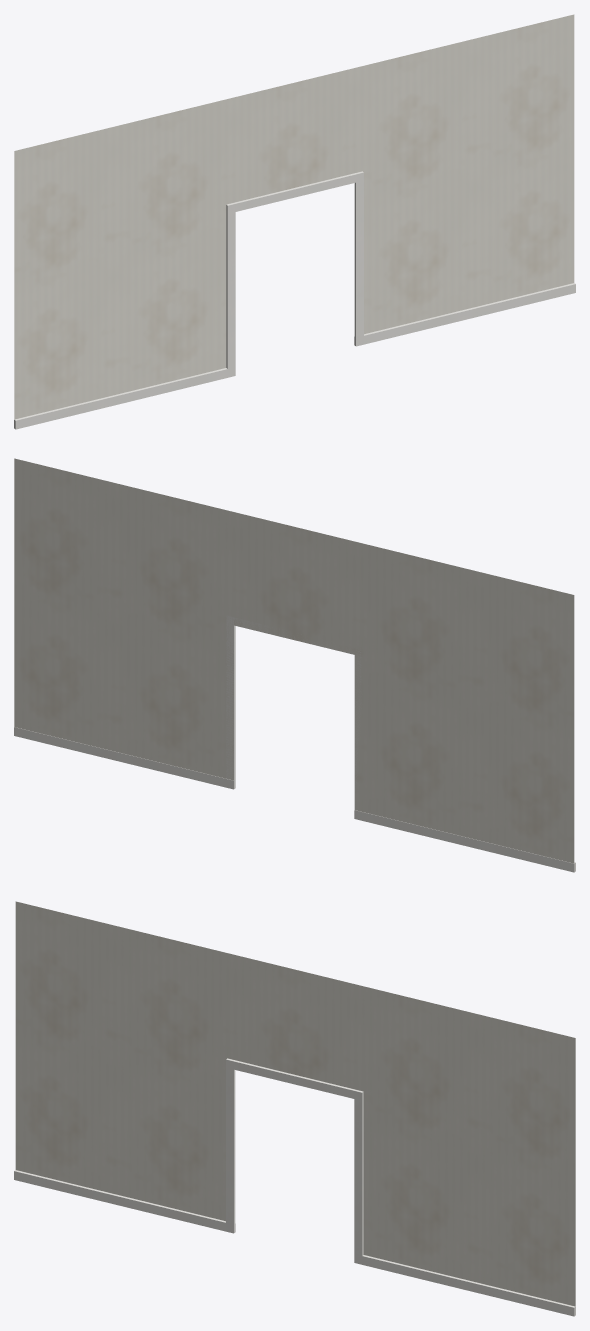
3 renders of one model, top to bottom at view 1: azimuth 30°, elevation 25°; view 2: azimuth 150°, elevation 25°; view 3: azimuth 330°, elevation 25°, orthographic.
Parts seen in each view (by area): view 1: jx_wm_9_b0d8cc54; view 2: jx_wm_9_b0d8cc54; view 3: jx_wm_9_b0d8cc54.
Part boxes in pixels (x1,y1,x2,y2): jx_wm_9_b0d8cc54: (14,14,575,429); jx_wm_9_b0d8cc54: (14,458,575,872); jx_wm_9_b0d8cc54: (14,901,575,1316).
Bounding box in the file's own units: 9.3 × 4.4 × 0.05.
Materials: 2 (2 with a texture image).
